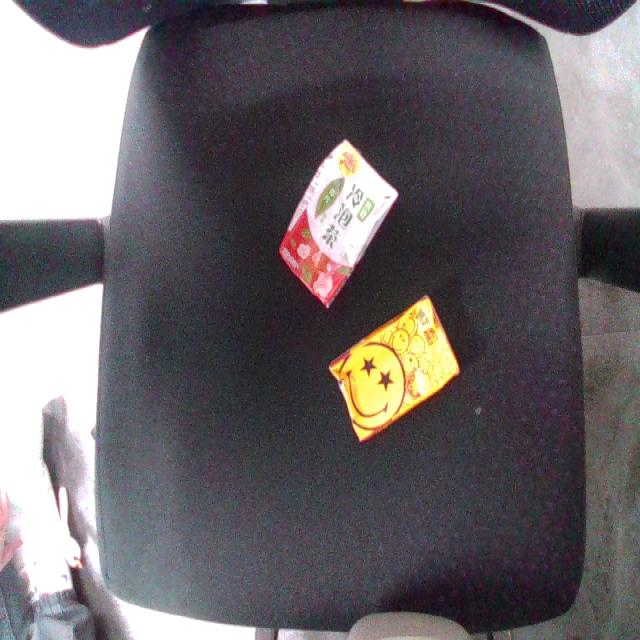juicebox: (292, 276, 489, 458), (241, 123, 419, 322)
